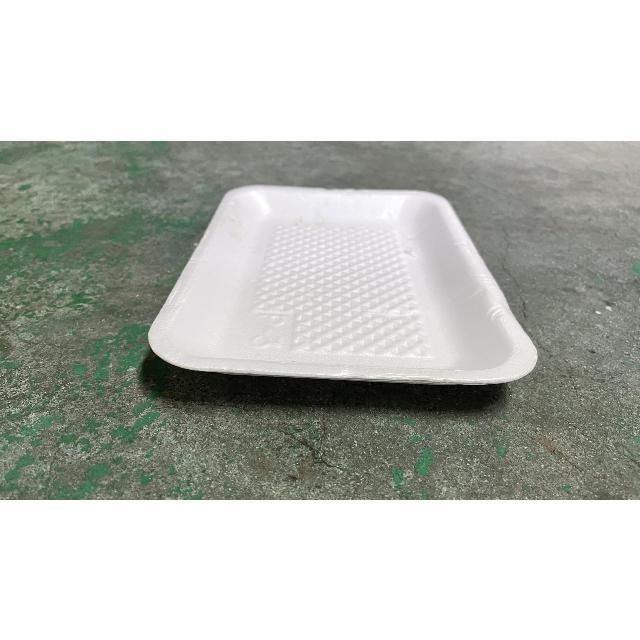Plastico descartable: (147, 186, 540, 389)
